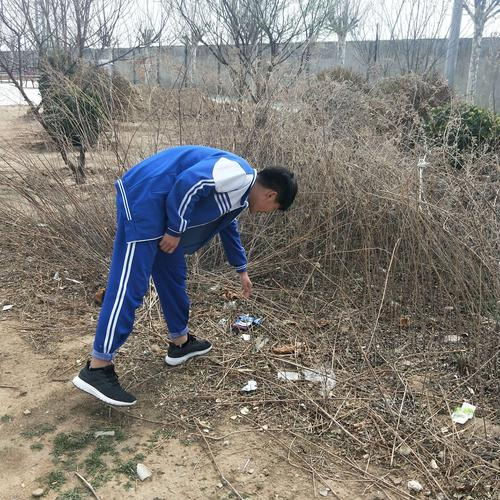bending: (73, 139, 302, 404)
